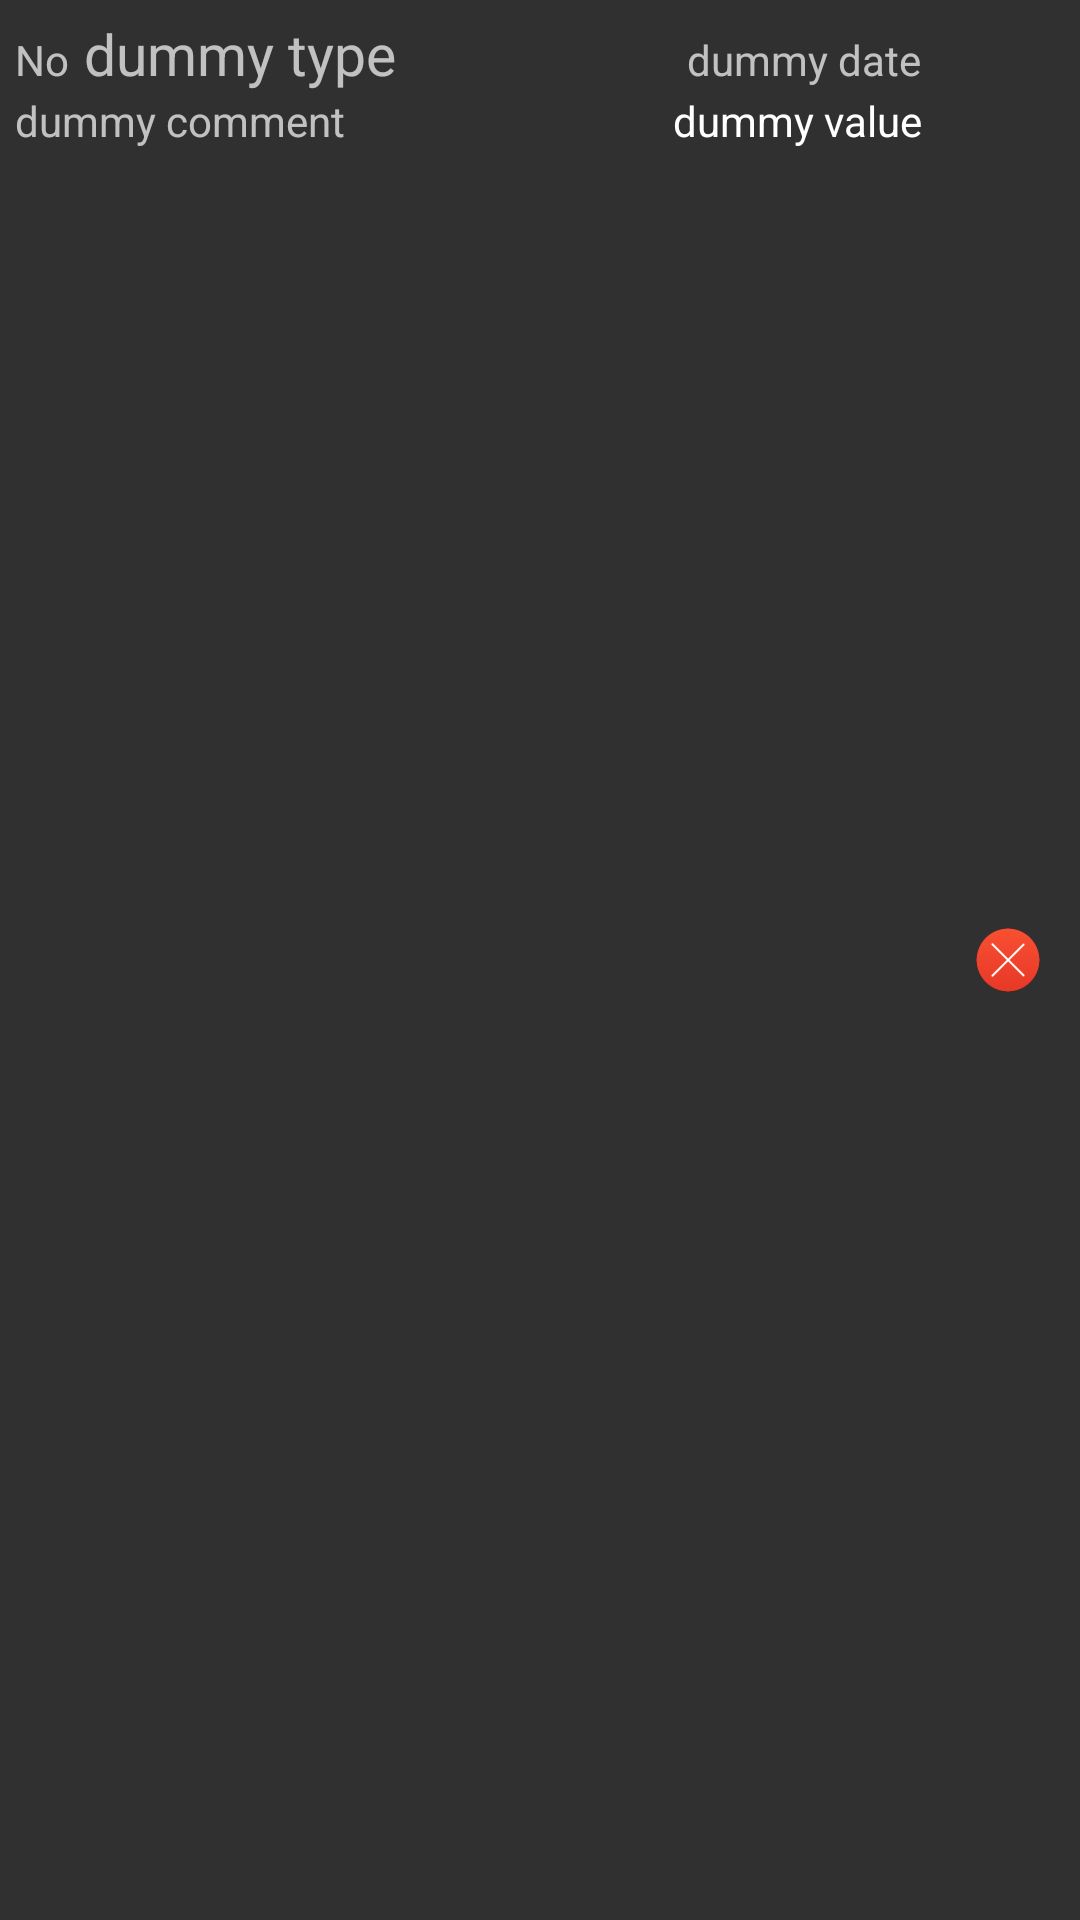

Icon click points for this 1080px×1920px phone screenshot, format (x=x, y=y):
delete button: (x=1008, y=960)
